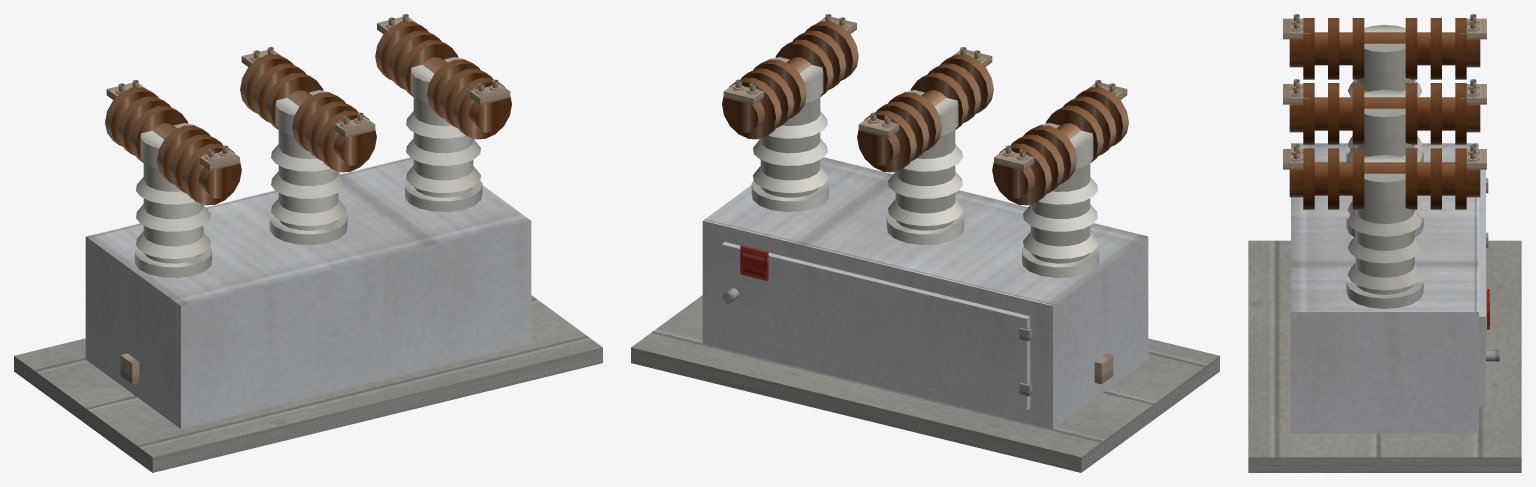
Rendered from mv_breaker.obj.
3 views of the same model, side by side, from view 1: azimuth 30°, elevation 25°; view 2: azimuth 150°, elevation 25°; view 3: azimuth 270°, elevation 25° (orthographic).
Visible parts, largest first — view 1: cabinet, pad, pole_2, pole_3, pole_1, insulator_6, insulator_5, insulator_4, insulator_2, insulator_3, insulator_1; view 2: cabinet, door, pad, pole_2, pole_3, pole_1, insulator_3, insulator_2, insulator_1, insulator_5, insulator_6, insulator_4 (+1 smaller); view 3: cabinet, pad, pole_3, insulator_1, insulator_4, insulator_2, insulator_5, insulator_3, insulator_6, pole_2, pole_1, door.
Part boxes in pixels (x1=…): cabinet: x1=85, y1=157, x2=531, y2=428; pad: x1=14, y1=295, x2=602, y2=472; pole_2: x1=269, y1=90, x2=347, y2=244; pole_3: x1=405, y1=57, x2=482, y2=211; pole_1: x1=134, y1=123, x2=211, y2=277; insulator_6: x1=427, y1=59, x2=511, y2=139; insulator_5: x1=292, y1=92, x2=376, y2=172; insulator_4: x1=157, y1=125, x2=241, y2=205; insulator_2: x1=240, y1=47, x2=323, y2=129; insulator_3: x1=375, y1=14, x2=458, y2=96; insulator_1: x1=105, y1=80, x2=187, y2=162; cabinet: x1=702, y1=157, x2=1148, y2=428; door: x1=721, y1=242, x2=1032, y2=410; pad: x1=631, y1=295, x2=1219, y2=472; pole_2: x1=886, y1=90, x2=964, y2=244; pole_3: x1=751, y1=57, x2=828, y2=211; pole_1: x1=1022, y1=123, x2=1099, y2=277; insulator_3: x1=722, y1=59, x2=806, y2=139; insulator_2: x1=857, y1=92, x2=941, y2=172; insulator_1: x1=992, y1=125, x2=1076, y2=205; insulator_5: x1=910, y1=47, x2=993, y2=129; insulator_6: x1=775, y1=14, x2=858, y2=96; insulator_4: x1=1046, y1=80, x2=1128, y2=162; cabinet: x1=1291, y1=143, x2=1478, y2=433; pad: x1=1248, y1=240, x2=1521, y2=472; pole_3: x1=1346, y1=155, x2=1423, y2=308; insulator_1: x1=1385, y1=14, x2=1486, y2=79; insulator_4: x1=1283, y1=14, x2=1384, y2=79; insulator_2: x1=1385, y1=79, x2=1486, y2=144; insulator_5: x1=1283, y1=79, x2=1384, y2=144; insulator_3: x1=1385, y1=144, x2=1486, y2=209; insulator_6: x1=1283, y1=144, x2=1384, y2=209; pole_2: x1=1346, y1=90, x2=1423, y2=236; pole_1: x1=1346, y1=25, x2=1423, y2=162; door: x1=1479, y1=169, x2=1499, y2=406.
Bounding box in the file's own units: 0.9 × 0.5432 × 0.48.
